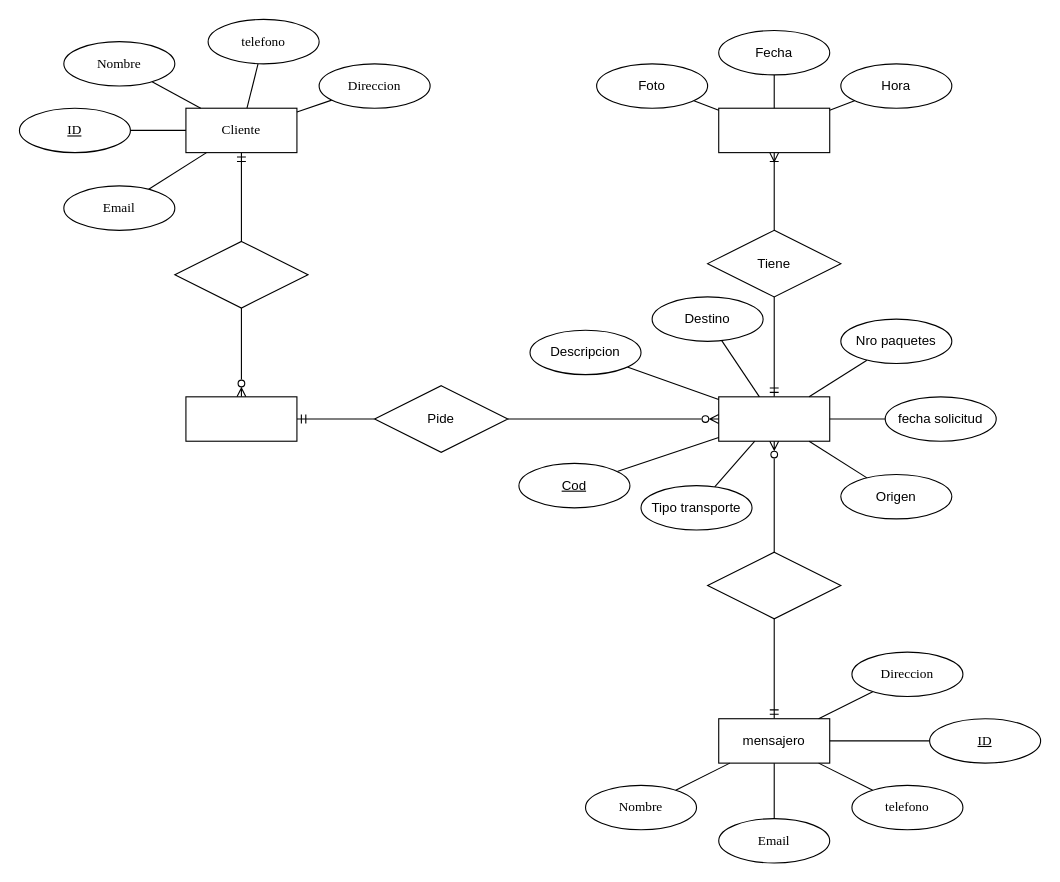
Some shapes in this 1060 by 882 pixel diagram are drawn without their labels. Here are the shapes that lost their labels. From the top down, the centre of each, then its label:
At (x=774, y=130): "Estado".
At (x=241, y=274): "Registra".
At (x=241, y=418): "usuario".
At (x=774, y=418): "Servicio".
At (x=774, y=585): "Atiende".
